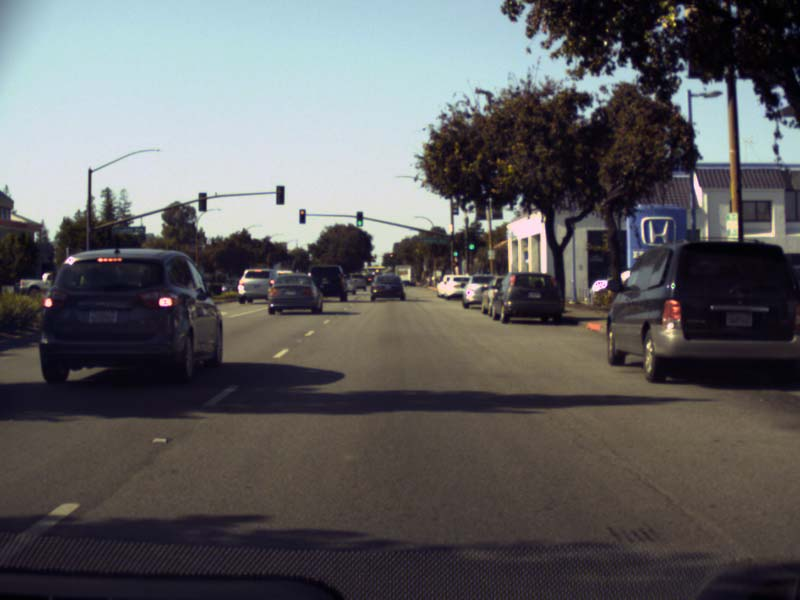Green: (466, 230, 475, 252), (452, 241, 459, 257), (356, 211, 363, 226)
Red: (298, 209, 305, 224)
